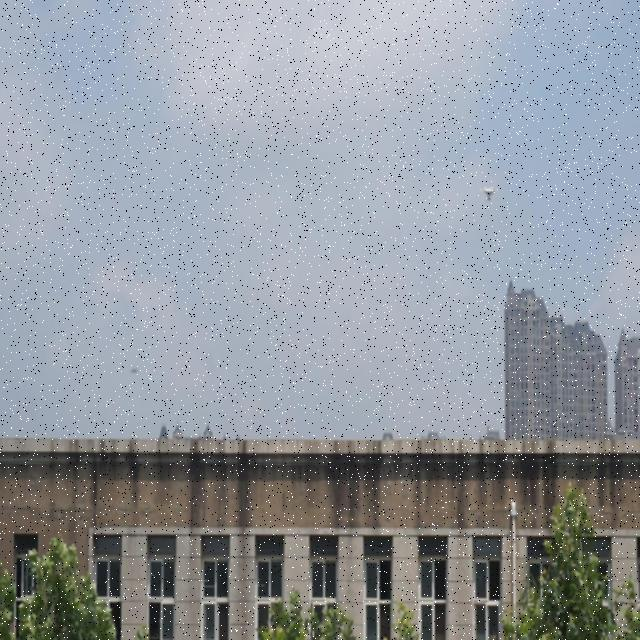UAV: (479, 186, 499, 202)
